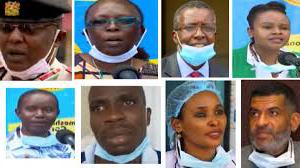mask_weared_incorrect: (89, 91, 143, 158), (1, 23, 57, 70), (87, 14, 139, 57), (180, 19, 215, 56)
without_mask: (183, 101, 227, 147), (247, 103, 283, 150), (19, 101, 56, 130), (255, 19, 290, 47)
